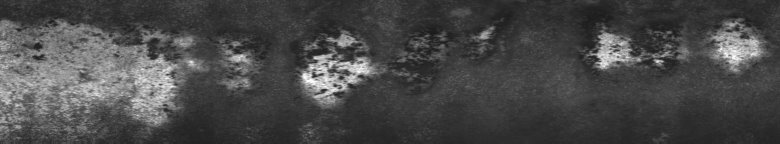kb: (4, 16, 502, 136)
